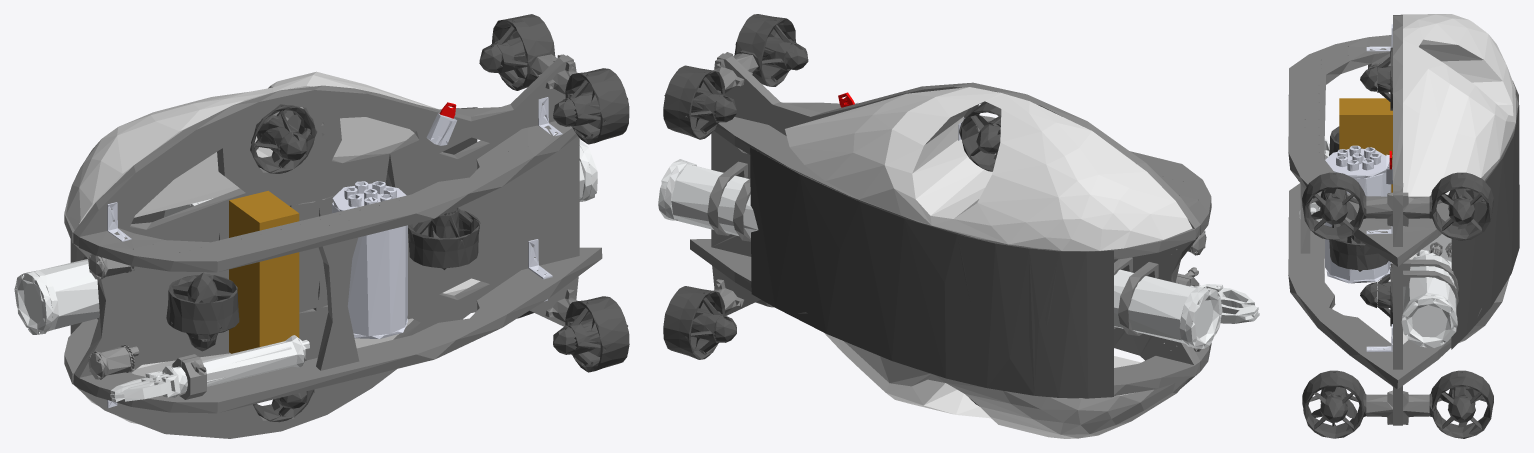
File: irisv03newref_low_res.dae
The picture shows the model from 3 angles, left to right: view 1: azimuth 30°, elevation 25°; view 2: azimuth 150°, elevation 25°; view 3: azimuth 270°, elevation 25°; orthographic projection. The views are drawn at different scales.
Parts seen in each view (by area): view 1: node85; view 2: node85; view 3: node85.
Part boxes in pixels (left/top/right/bottom): node85: left=14, top=14, right=629, bottom=438; node85: left=658, top=14, right=1259, bottom=438; node85: left=1288, top=14, right=1519, bottom=438.
Size of the model in its own units: 0.8408 by 0.3498 by 0.4869.
